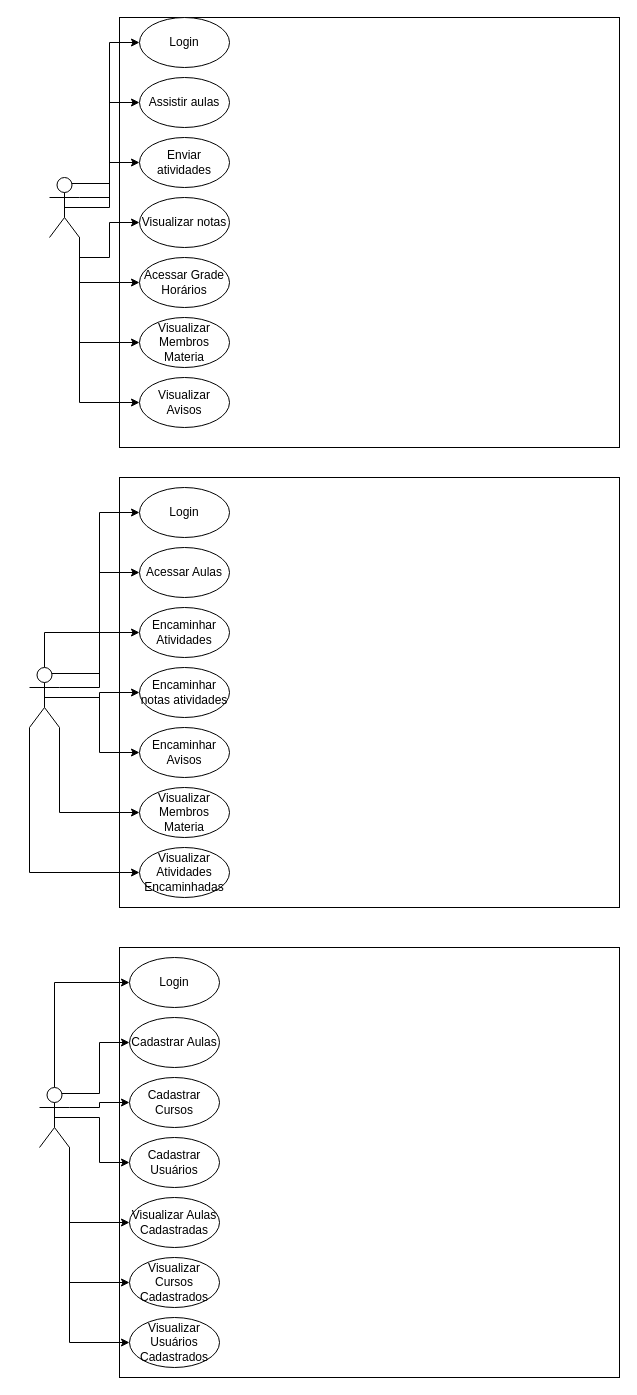
The diagram is 637 pixels wide and 1395 high, and some of its shapes have lost their labels. Here are the shapes that lost their labels. From the top down, the centre of each, then its label:
[64,207]: Aluno
[44,697]: Professor
[54,1117]: Administrador
